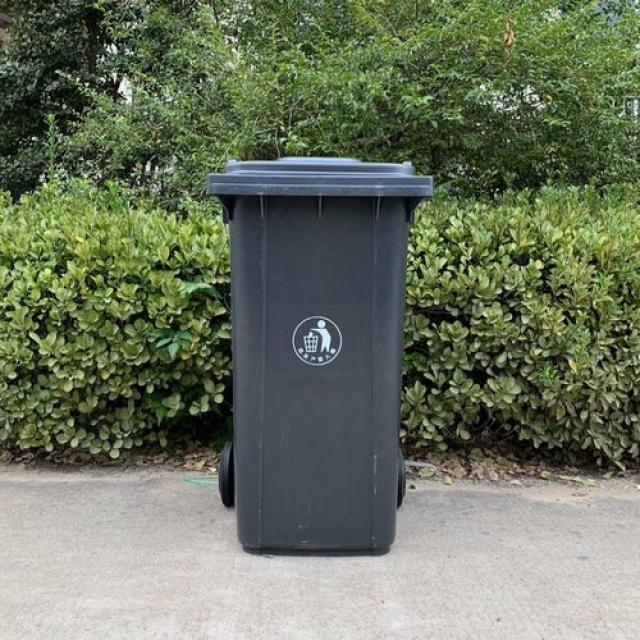garbage_bin: (206, 156, 433, 556)
